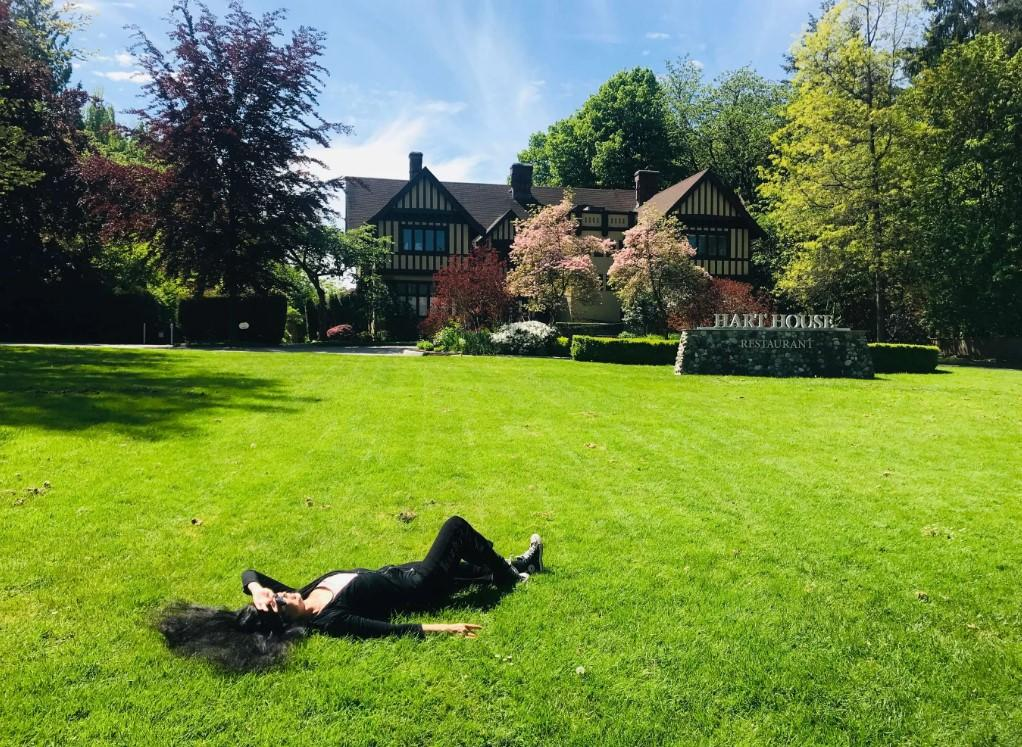down: (167, 502, 562, 653)
